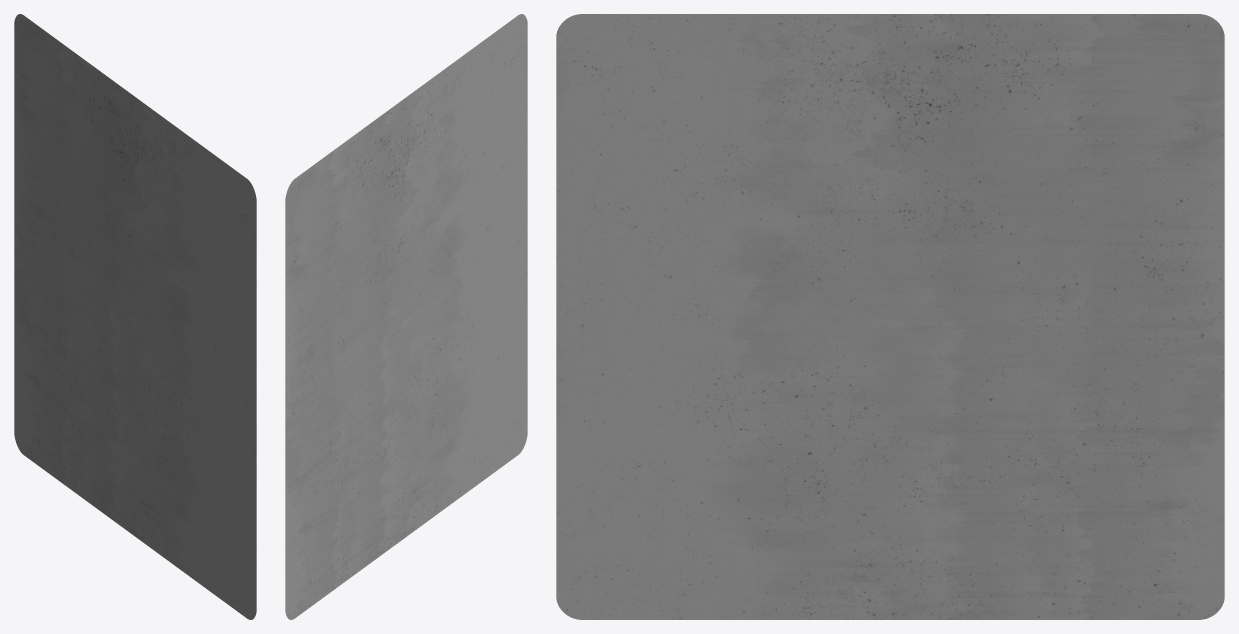
File: Demo3.obj
3 views of the same model, side by side, from view 1: azimuth 30°, elevation 25°; view 2: azimuth 150°, elevation 25°; view 3: azimuth 270°, elevation 25° (orthographic). The views are drawn at different scales.
Parts seen in each view (by area): view 1: 000_Plane_1; view 2: 000_Plane_1; view 3: 000_Plane_1.
Boxes of the visible parts, x1,y1,x2,y2 form: 000_Plane_1: [14, 14, 256, 619]; 000_Plane_1: [285, 14, 527, 619]; 000_Plane_1: [556, 14, 1224, 619].
Bounding box in the file's own units: 0 × 1000 × 1000.
